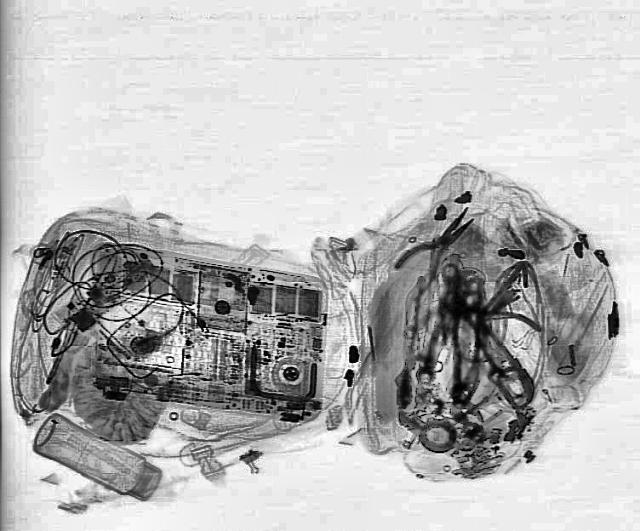Pliers: (382, 199, 492, 295)
